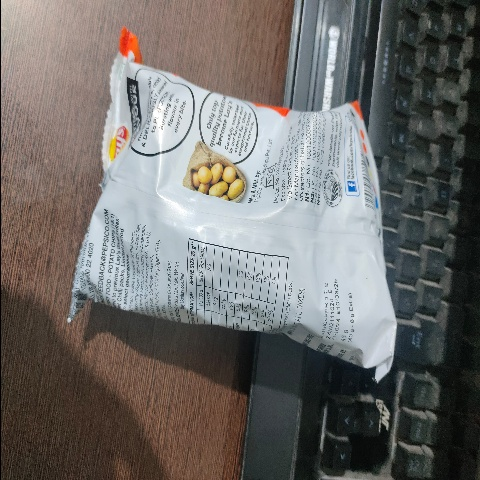lays_orange_pack: (71, 24, 413, 386)
